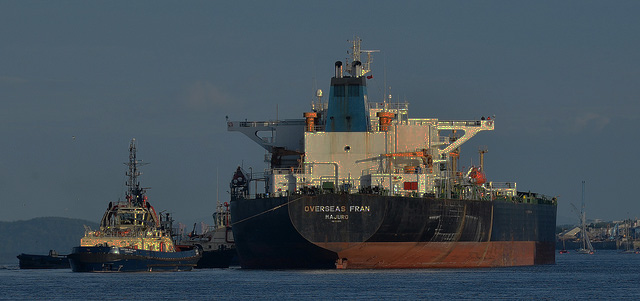tanker: (226, 41, 565, 265)
tug_boat: (70, 136, 204, 268)
